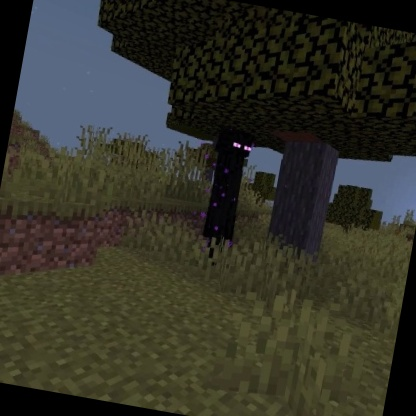enderman: (193, 124, 257, 272)
